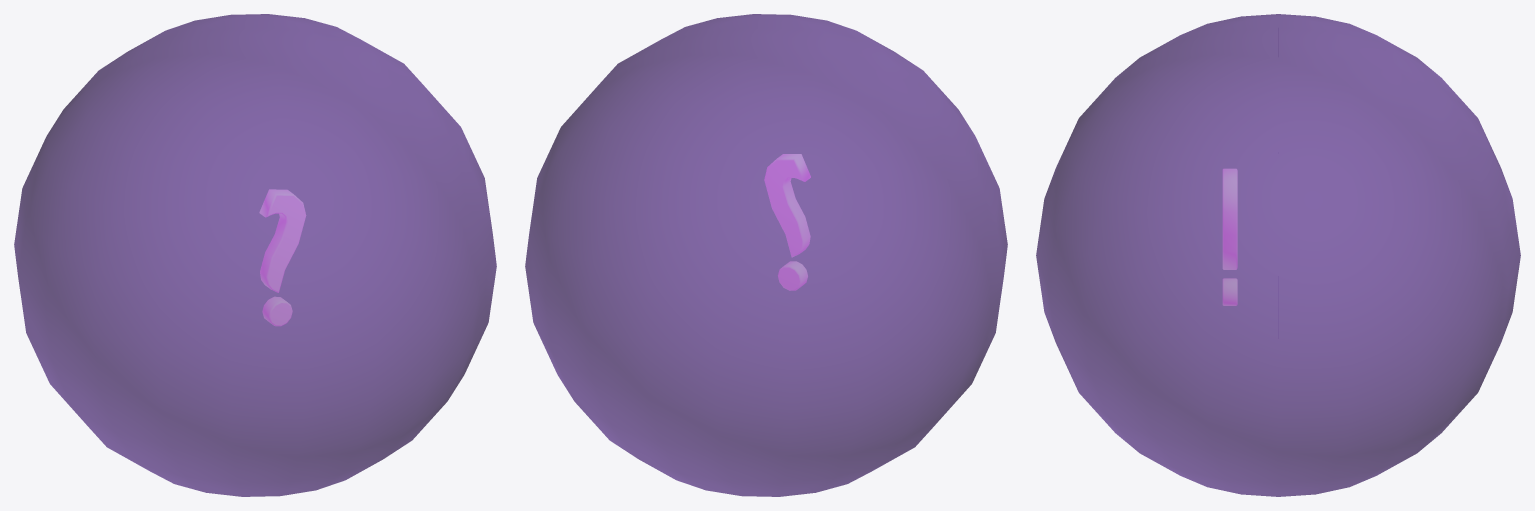
File: SM_MysteryCapsule.fbx
3 views of the same model, side by side, from view 1: azimuth 30°, elevation 25°; view 2: azimuth 150°, elevation 25°; view 3: azimuth 270°, elevation 25° (orthographic).
Visible parts, largest first — view 1: SM_MysteryCapsule; view 2: SM_MysteryCapsule; view 3: SM_MysteryCapsule.
Part boxes in pixels (<box>): SM_MysteryCapsule: <box>14,14,496,496</box>; SM_MysteryCapsule: <box>525,14,1007,496</box>; SM_MysteryCapsule: <box>1036,14,1520,496</box>.
Size of the model in its own units: 2 by 2 by 2.
